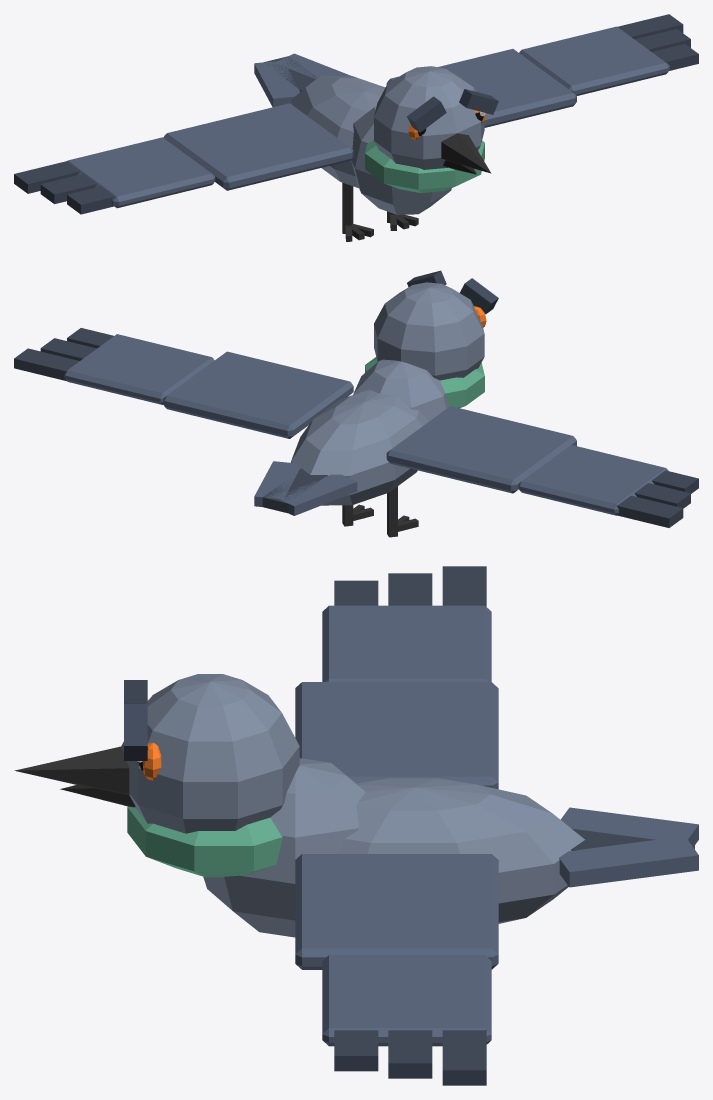
File: taube.glb
The picture shows the model from 3 angles, top to bottom: view 1: azimuth 30°, elevation 25°; view 2: azimuth 150°, elevation 25°; view 3: azimuth 270°, elevation 25°; orthographic projection. The views are drawn at different scales.
Parts seen in each view (by area): view 1: head-m, wing-1-m, tip-1-m, body, tip-0-m, wing-0-m, tail-m; view 2: body, head-m, wing-0-m, wing-1-m, tip-1-m, tip-0-m, tail-m; view 3: head-m, body, wing-0-m, tip-0-m, wing-1-m, tip-1-m, tail-m.
Boxes of the visible parts, x1,y1,x2,y2 form: head-m: (365, 66, 498, 193); wing-1-m: (163, 103, 353, 190); tip-1-m: (14, 137, 215, 214); body: (291, 75, 451, 241); tip-0-m: (519, 14, 698, 95); wing-0-m: (386, 49, 576, 127); tail-m: (254, 53, 350, 107); body: (291, 359, 448, 537); head-m: (365, 270, 498, 408); wing-0-m: (163, 351, 353, 438); wing-1-m: (386, 406, 576, 493); tip-1-m: (518, 445, 698, 527); tip-0-m: (14, 328, 214, 404); tail-m: (254, 461, 357, 515); head-m: (14, 674, 299, 877); body: (203, 758, 584, 937); wing-0-m: (295, 854, 498, 969); tip-0-m: (322, 955, 491, 1085); wing-1-m: (295, 682, 498, 789); tip-1-m: (322, 566, 491, 681); tail-m: (559, 807, 698, 887).
Bounding box in the file's own units: 3.52 × 1.02 × 2.02.
